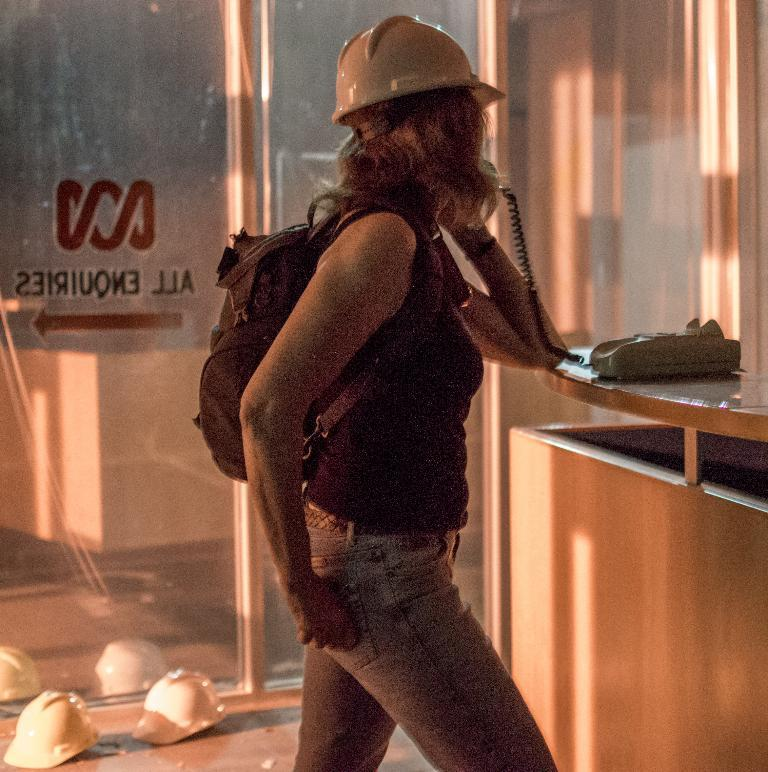helmet: (332, 15, 506, 186), (3, 690, 101, 769), (132, 668, 226, 744)
